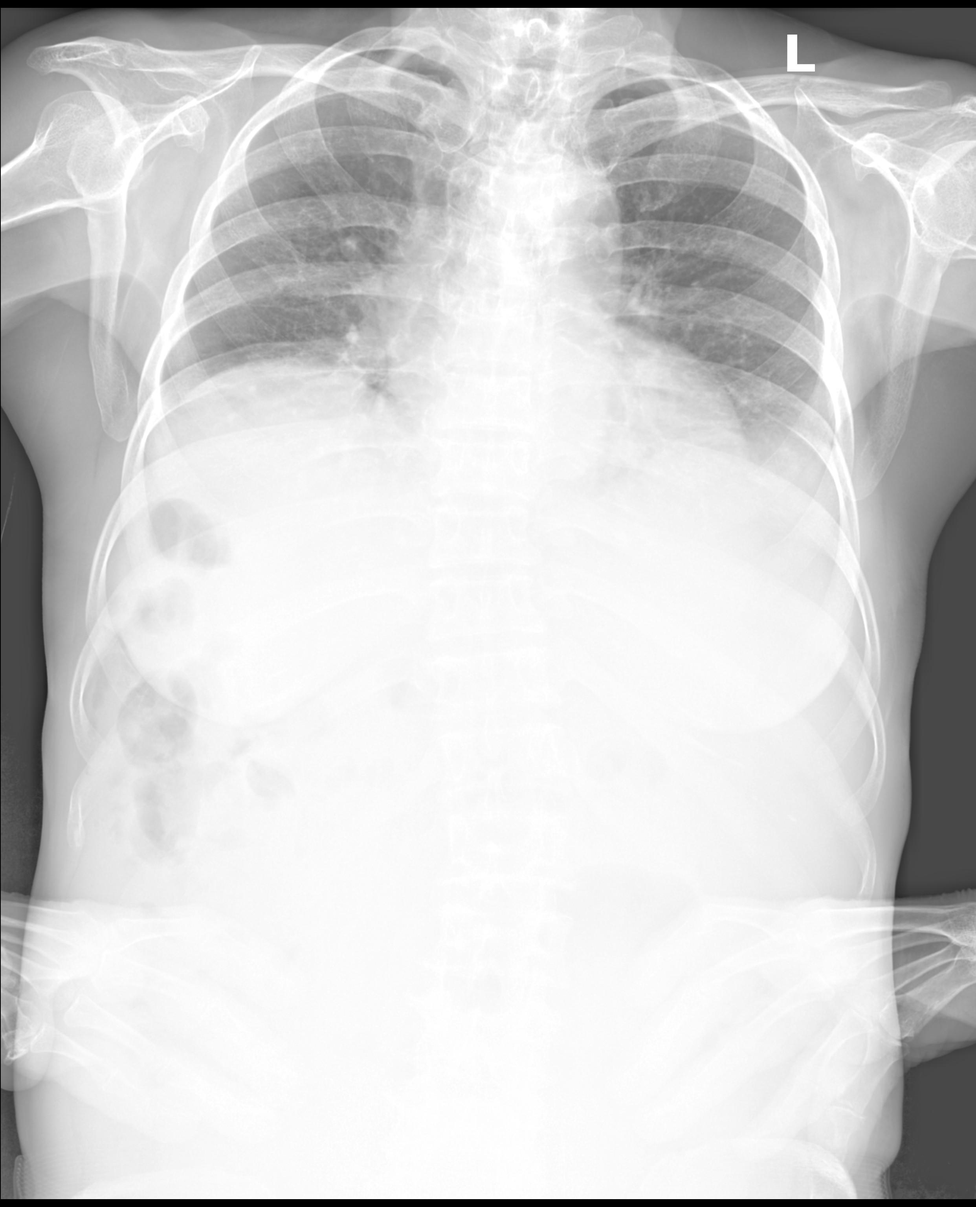Aortic enlargement: (499, 153, 621, 314)
